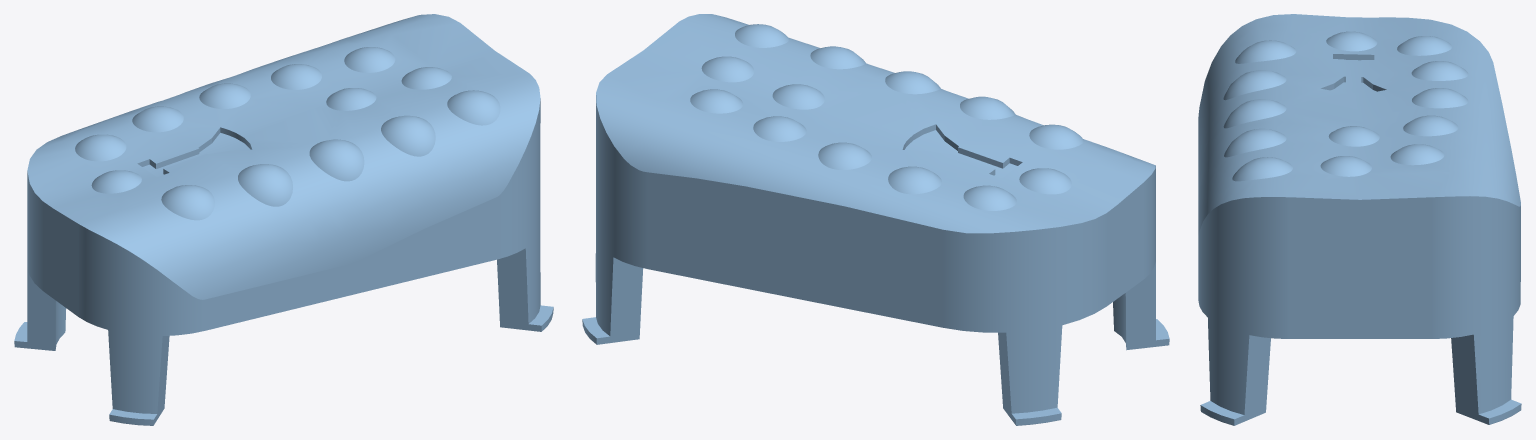
3 renders of one model, left to right at view 1: azimuth 30°, elevation 25°; view 2: azimuth 150°, elevation 25°; view 3: azimuth 270°, elevation 25°, orthographic. The views are drawn at different scales.
Visible parts, largest first — view 1: part_0; view 2: part_0; view 3: part_0.
Boxes of the visible parts, x1,y1,x2,y2 form: part_0: (14, 14, 553, 425); part_0: (582, 14, 1169, 425); part_0: (1198, 14, 1521, 425).
Bounding box in the file's own units: 38.92 × 18.53 × 23.32.
